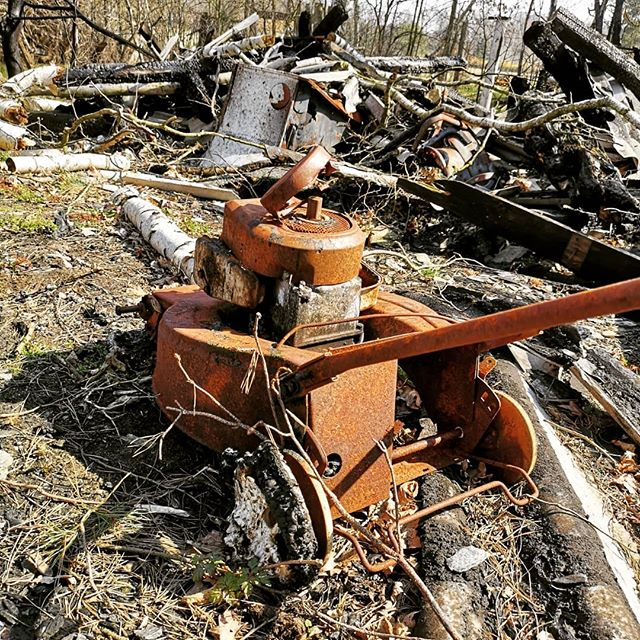lawnmower: (135, 176, 635, 547)
trash: (9, 1, 640, 196)
